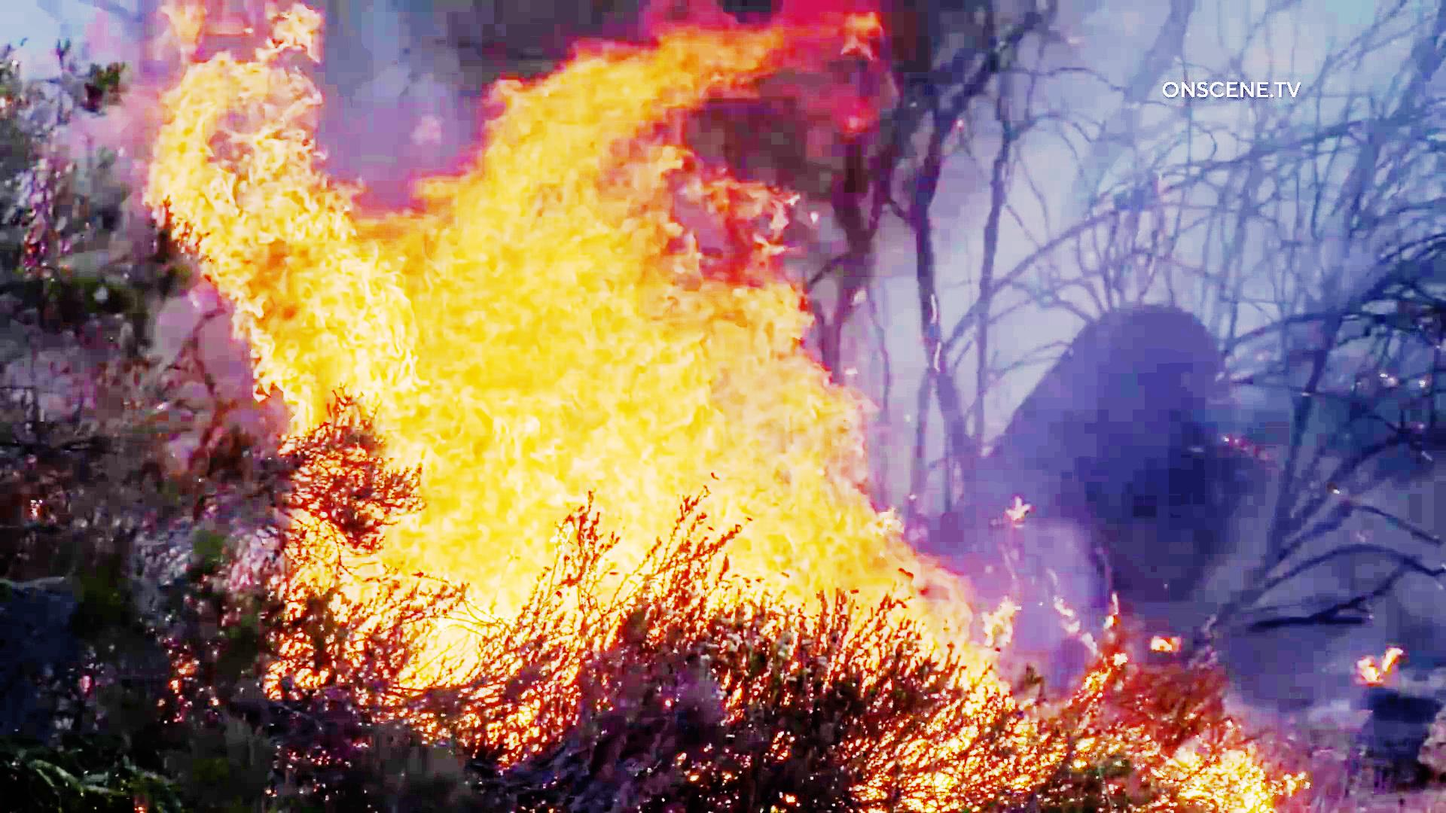fire: (191, 14, 950, 645)
